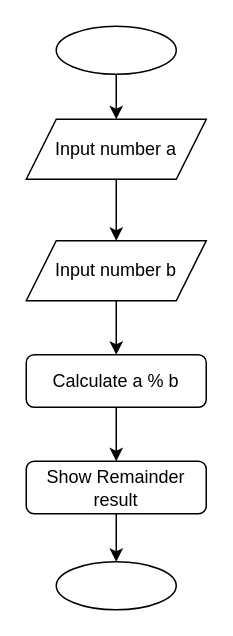
This 233x636 diagram has some shape labels left out. Here are the shapes that lost their labels. From the top down, the centre of each, then its label:
At pixel 115 49: "START".
At pixel 115 585: "END".
